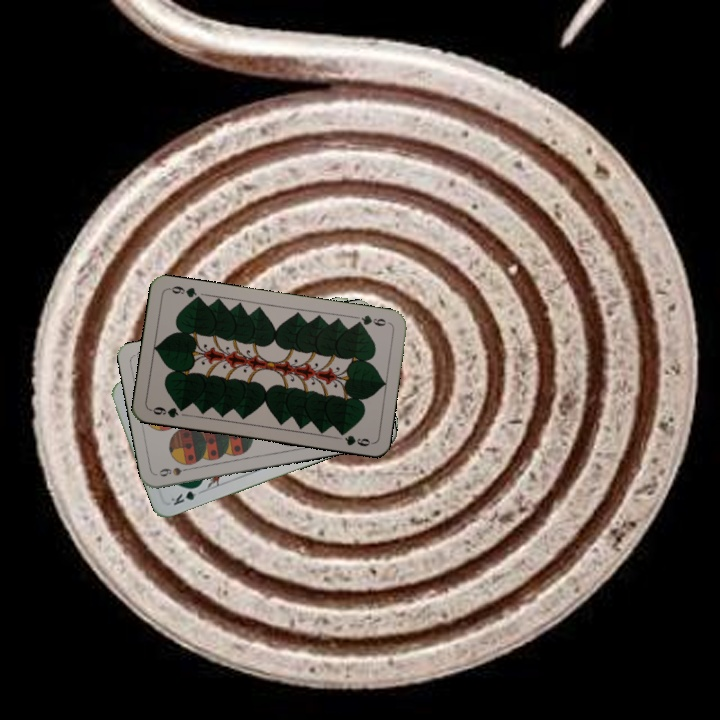G9: (147, 402, 188, 420), (351, 311, 392, 329)
GK: (167, 482, 203, 508)
S9: (155, 463, 195, 479)
